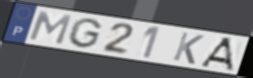1: (140, 25, 161, 60)
2: (102, 22, 135, 55)
A: (198, 36, 235, 73)
G: (66, 17, 105, 50)
K: (171, 31, 206, 66)
M: (27, 10, 74, 46)
